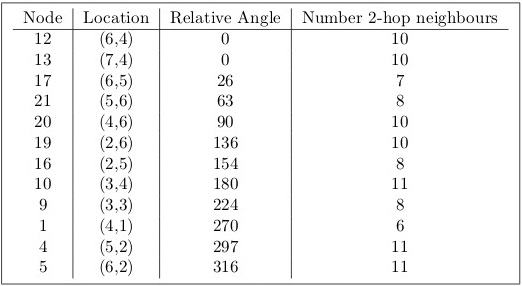column: (302, 1, 498, 286), (170, 1, 281, 286), (83, 1, 149, 286), (24, 4, 63, 286)
row: (1, 155, 522, 173), (1, 218, 522, 236), (1, 176, 522, 193), (1, 114, 518, 131), (1, 198, 522, 214), (2, 259, 522, 275), (10, 10, 522, 26), (1, 240, 522, 255), (3, 136, 522, 151), (10, 30, 522, 45), (1, 73, 522, 87), (4, 53, 522, 66), (1, 94, 522, 106)
